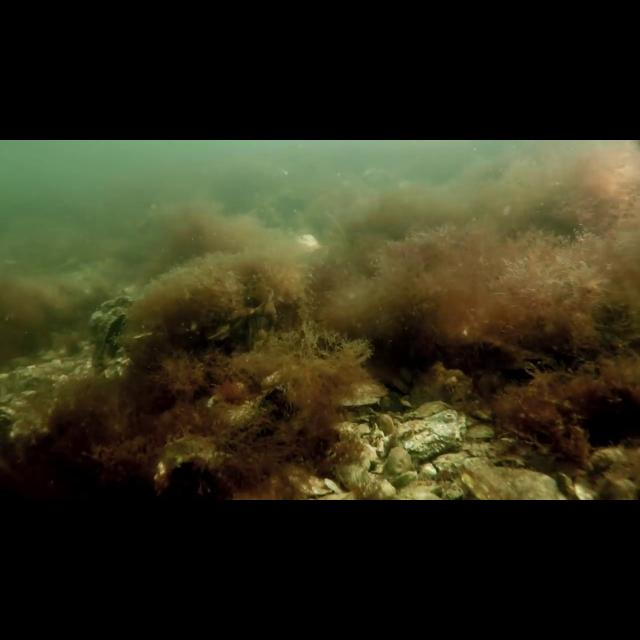Oyster-Closed: (85, 295, 138, 374), (334, 374, 393, 411)
